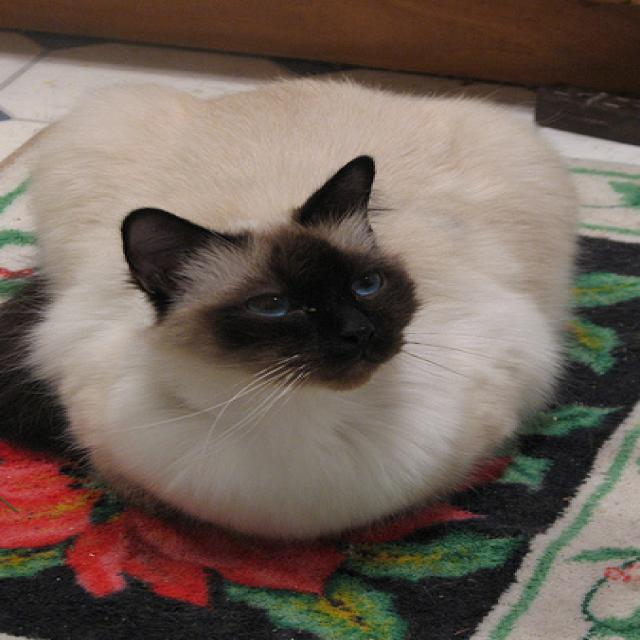Birman: (0, 65, 587, 542)
